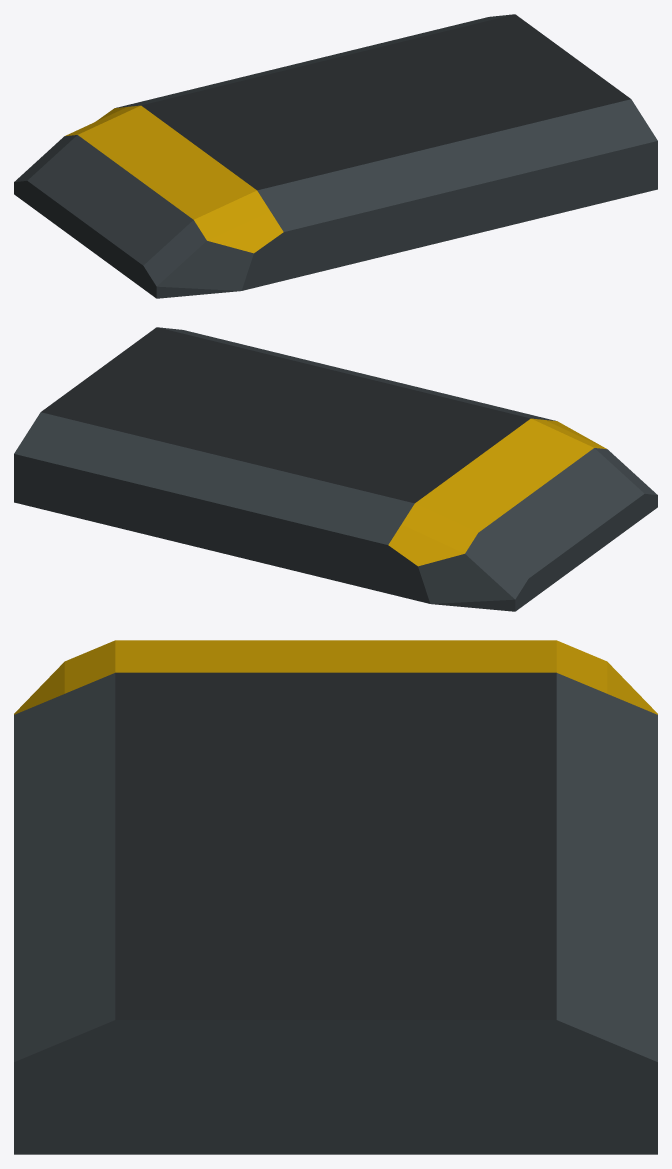
File: SM_Artificial_unevenness_03.glb
3 renders of one model, top to bottom at view 1: azimuth 30°, elevation 25°; view 2: azimuth 150°, elevation 25°; view 3: azimuth 270°, elevation 25°, orthographic. The views are drawn at different scales.
Visible parts, largest first — view 1: SM_Artificial_unevenness_03; view 2: SM_Artificial_unevenness_03; view 3: SM_Artificial_unevenness_03.
Part boxes in pixels (box(x1,y1,x2,y2)): SM_Artificial_unevenness_03: box(14, 14, 657, 298); SM_Artificial_unevenness_03: box(14, 327, 657, 611); SM_Artificial_unevenness_03: box(14, 640, 657, 1154).
Bounding box in the file's own units: 0.4992 × 0.0692 × 0.3.
Materials: 1 (1 with a texture image).
